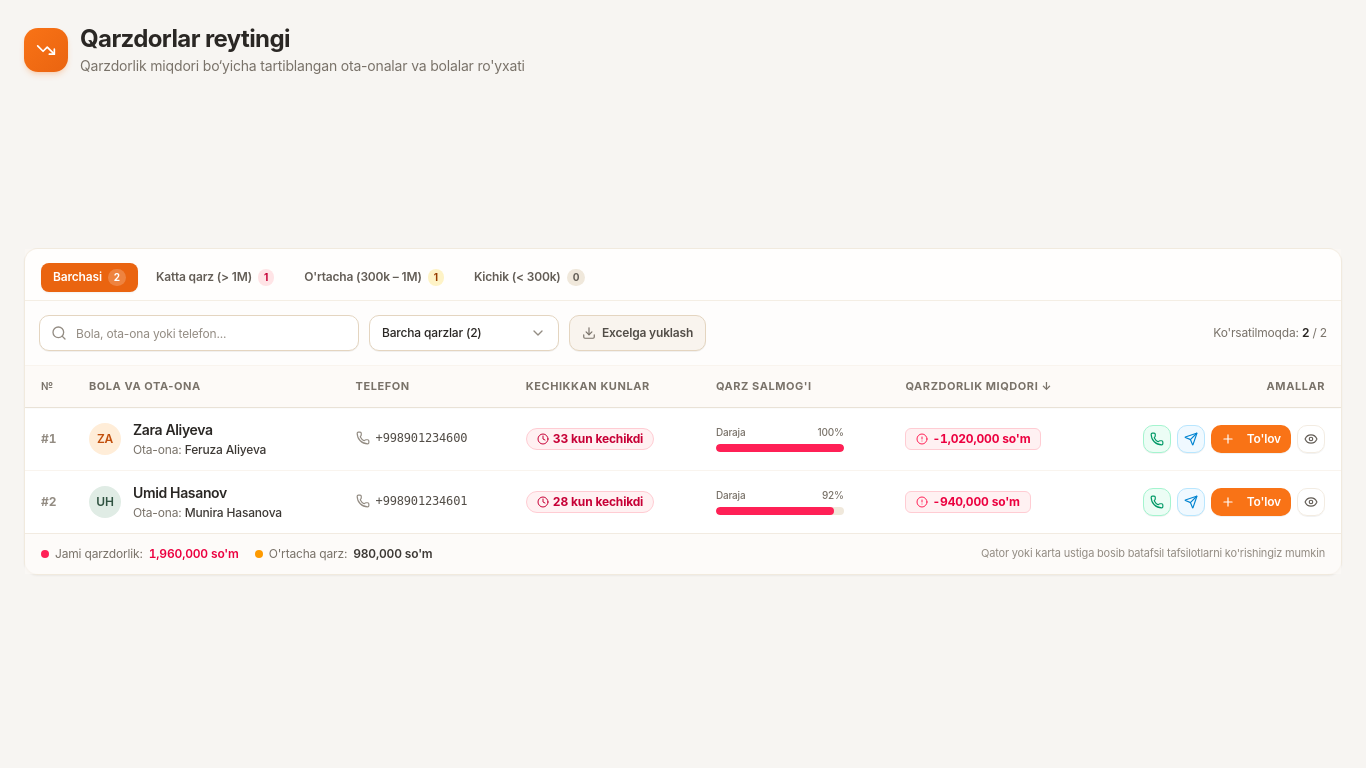
DebtorsPage Component › filters debtors by search input
Type "Zara" into the field with placeholder "Bola, ota-ona yoki telefon..." at [199, 333], box [39, 315, 359, 351]
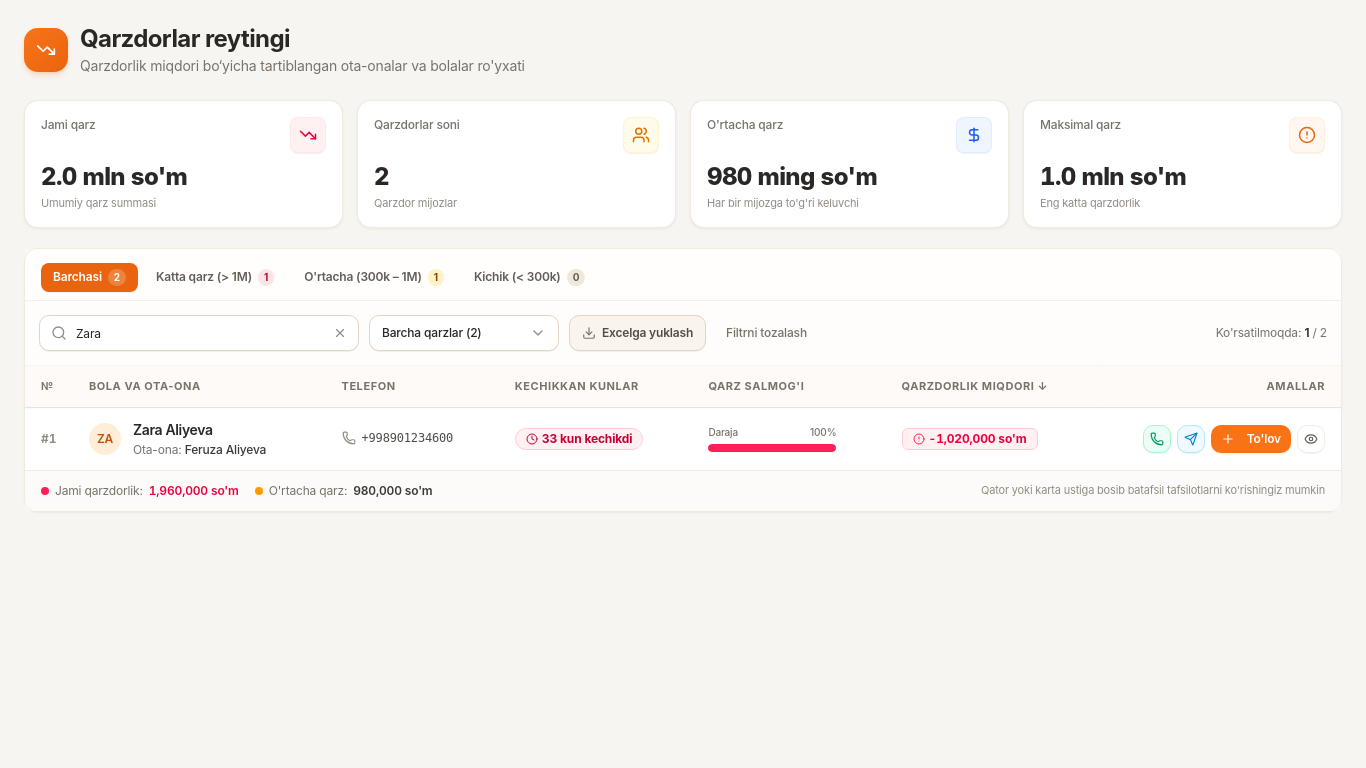
Expected: the button "Umid Hasanov" is gone
